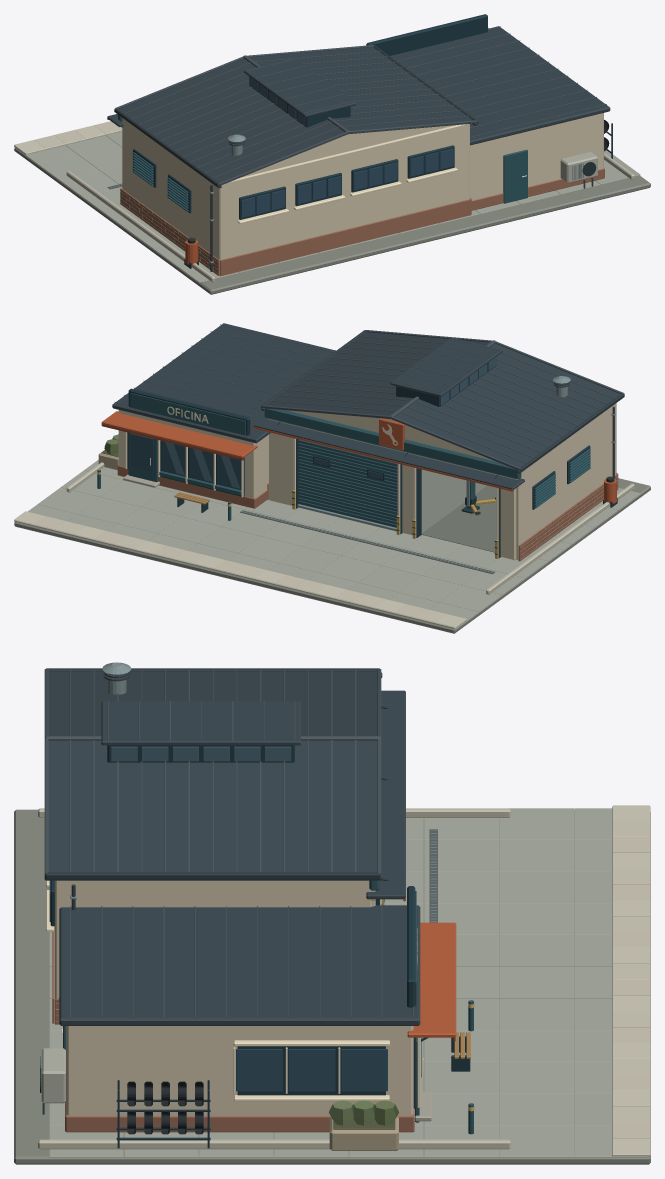
File: mechanic_shop_codex.a.glb
3 renders of one model, top to bottom at view 1: azimuth 30°, elevation 25°; view 2: azimuth 150°, elevation 25°; view 3: azimuth 270°, elevation 25°, orthographic. The views are drawn at different scales.
Parts seen in each view (by area): view 1: Building, Site, ArchitecturalDetails, SignHousing, YardProps; view 2: Building, Site, ShutterClosed, WorkshopFurnishings, SignHousing, ArchitecturalDetails, YardProps, WrenchEmblem; view 3: Building, Site, YardProps, ArchitecturalDetails, SignHousing.
Boxes of the visible parts, x1,y1,x2,y2 form: Building: (107,26,610,276); Site: (14,121,650,294); ArchitecturalDetails: (132,145,597,223); SignHousing: (366,14,487,55); YardProps: (184,120,612,268); Building: (101,323,624,561); Site: (14,460,650,633); ShutterClosed: (297,439,397,531); WorkshopFurnishings: (421,485,495,552); SignHousing: (128,388,250,435); ArchitecturalDetails: (276,421,590,558); YardProps: (97,434,617,520); WrenchEmblem: (379,418,404,450); Building: (44,662,456,1132); Site: (14,805,650,1164); YardProps: (116,1000,474,1150); ArchitecturalDetails: (40,706,390,1114); SignHousing: (407,886,416,1007).
Bounding box in the file's own units: 21.99 × 6.26 × 16.98.
5 materials, 4 textured.
